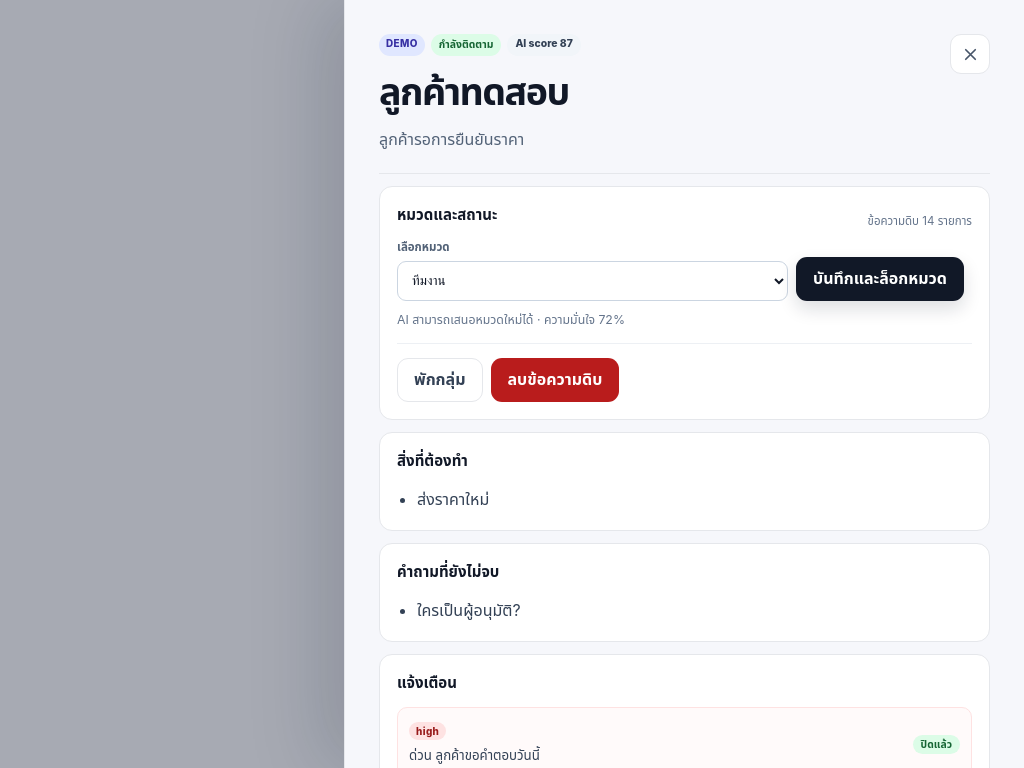
Test: group detail and guarded controls › names the group in pause and destructive-history confirmations
expect the heading "ลูกค้าทดสอบ" is shown: met, box [379,65,581,122]
Click the button "พักกลุ่ม".
click(440, 380)  # box [397,358,482,402]
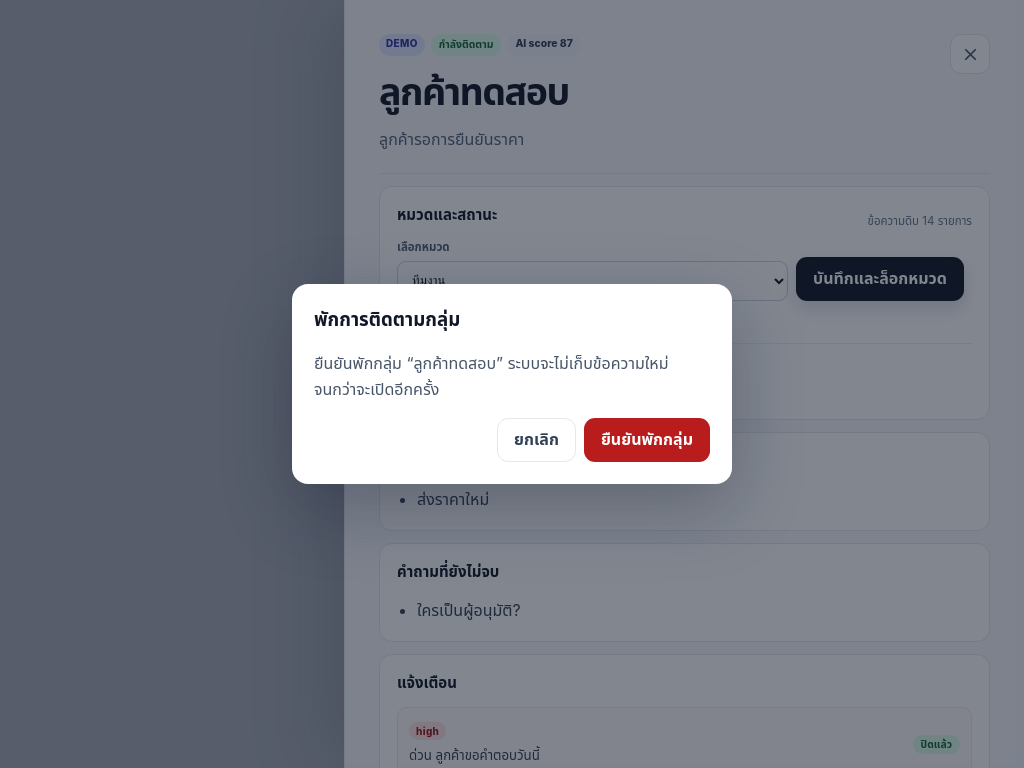
expect the dialog shows "ลูกค้าทดสอบ": met, box [314,353,669,399]
Click the button "ยืนยันพักกลุ่ม".
click(647, 440)  # box [584,418,710,462]
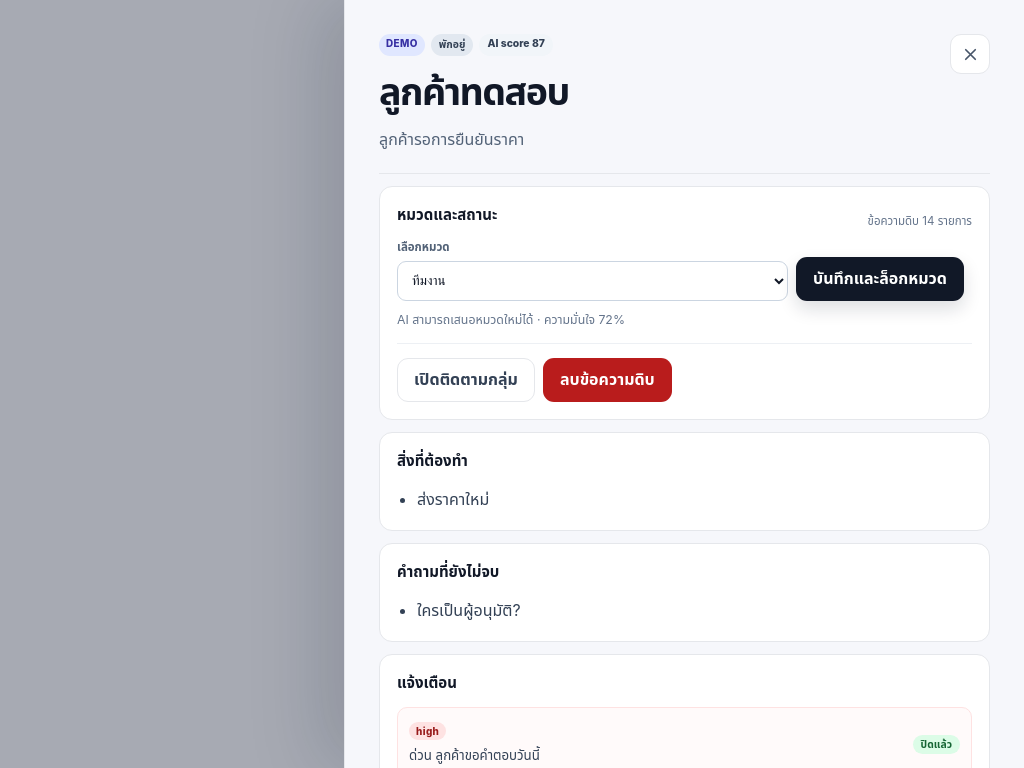
Click the button "ลบข้อความดิบ".
click(607, 380)  # box [543,358,672,402]
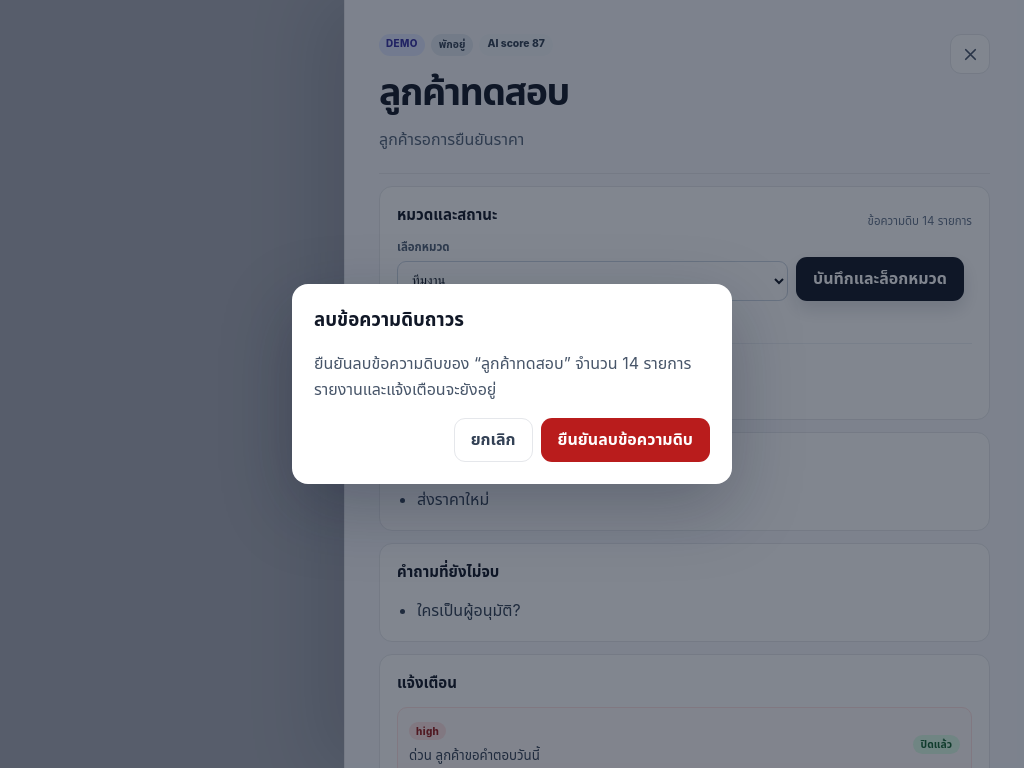
expect the dialog shows "ลูกค้าทดสอบ": met, box [314,353,691,399]
Click the button "ยืนยันลบข้อความดิบ".
click(625, 440)  # box [541,418,710,462]
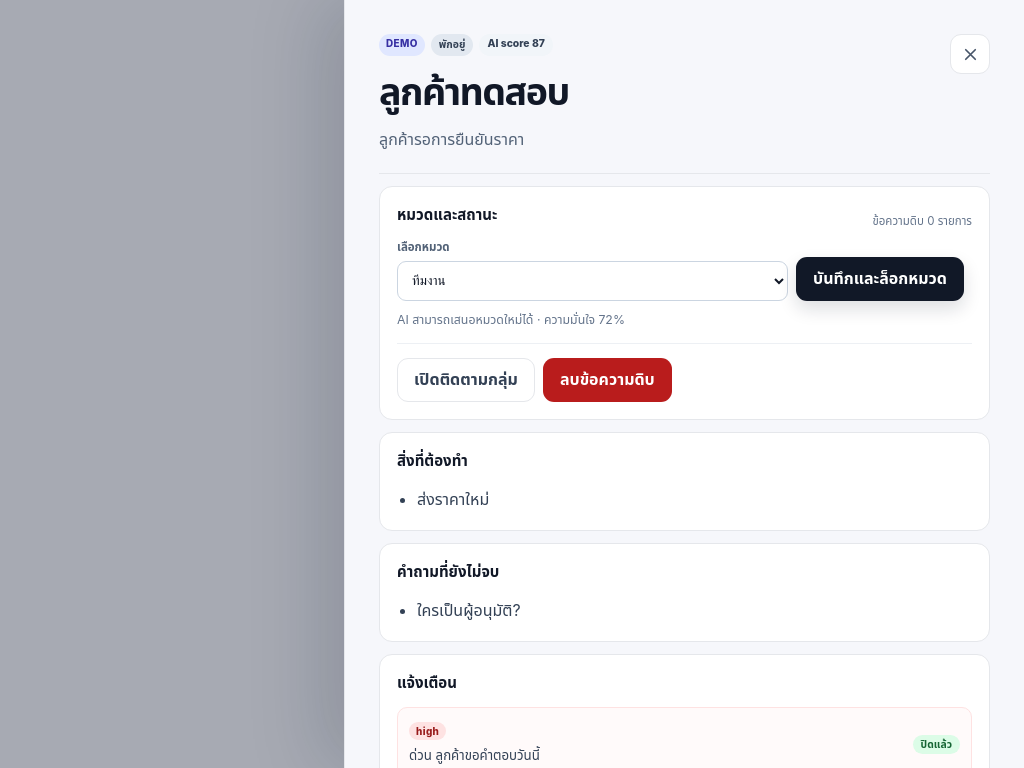
expect the text "ข้อความดิบ 0 รายการ" is shown: met, box [872,213,972,230]
